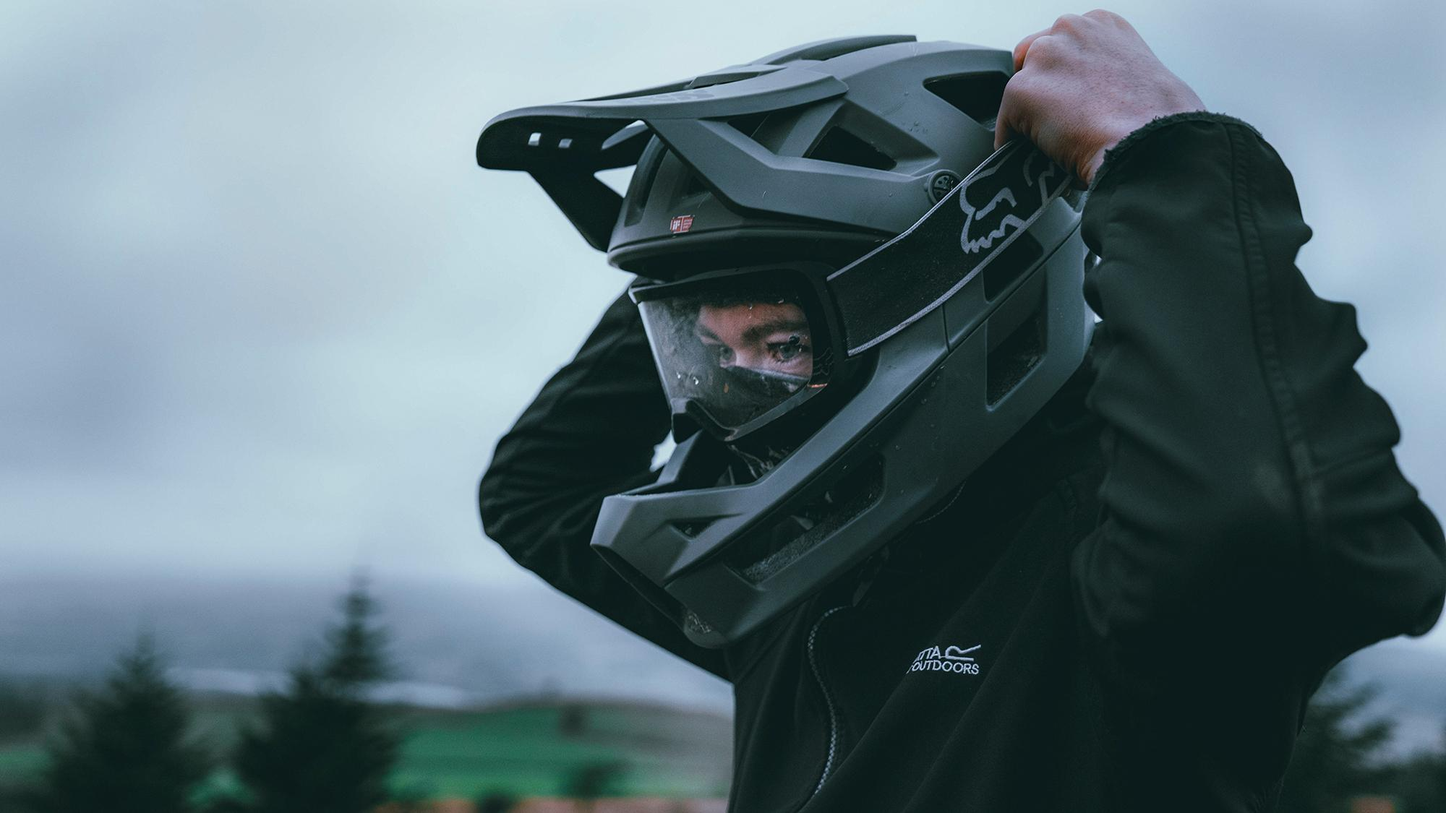helmet: (472, 29, 1104, 655)
